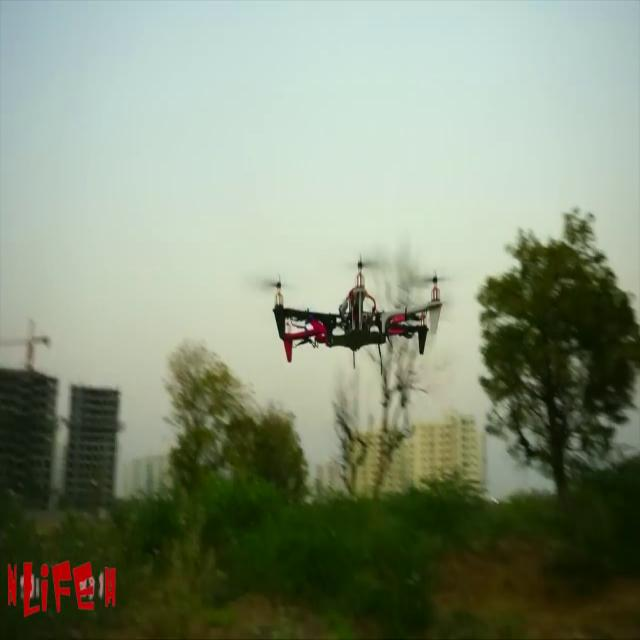drone: (247, 238, 466, 416)
